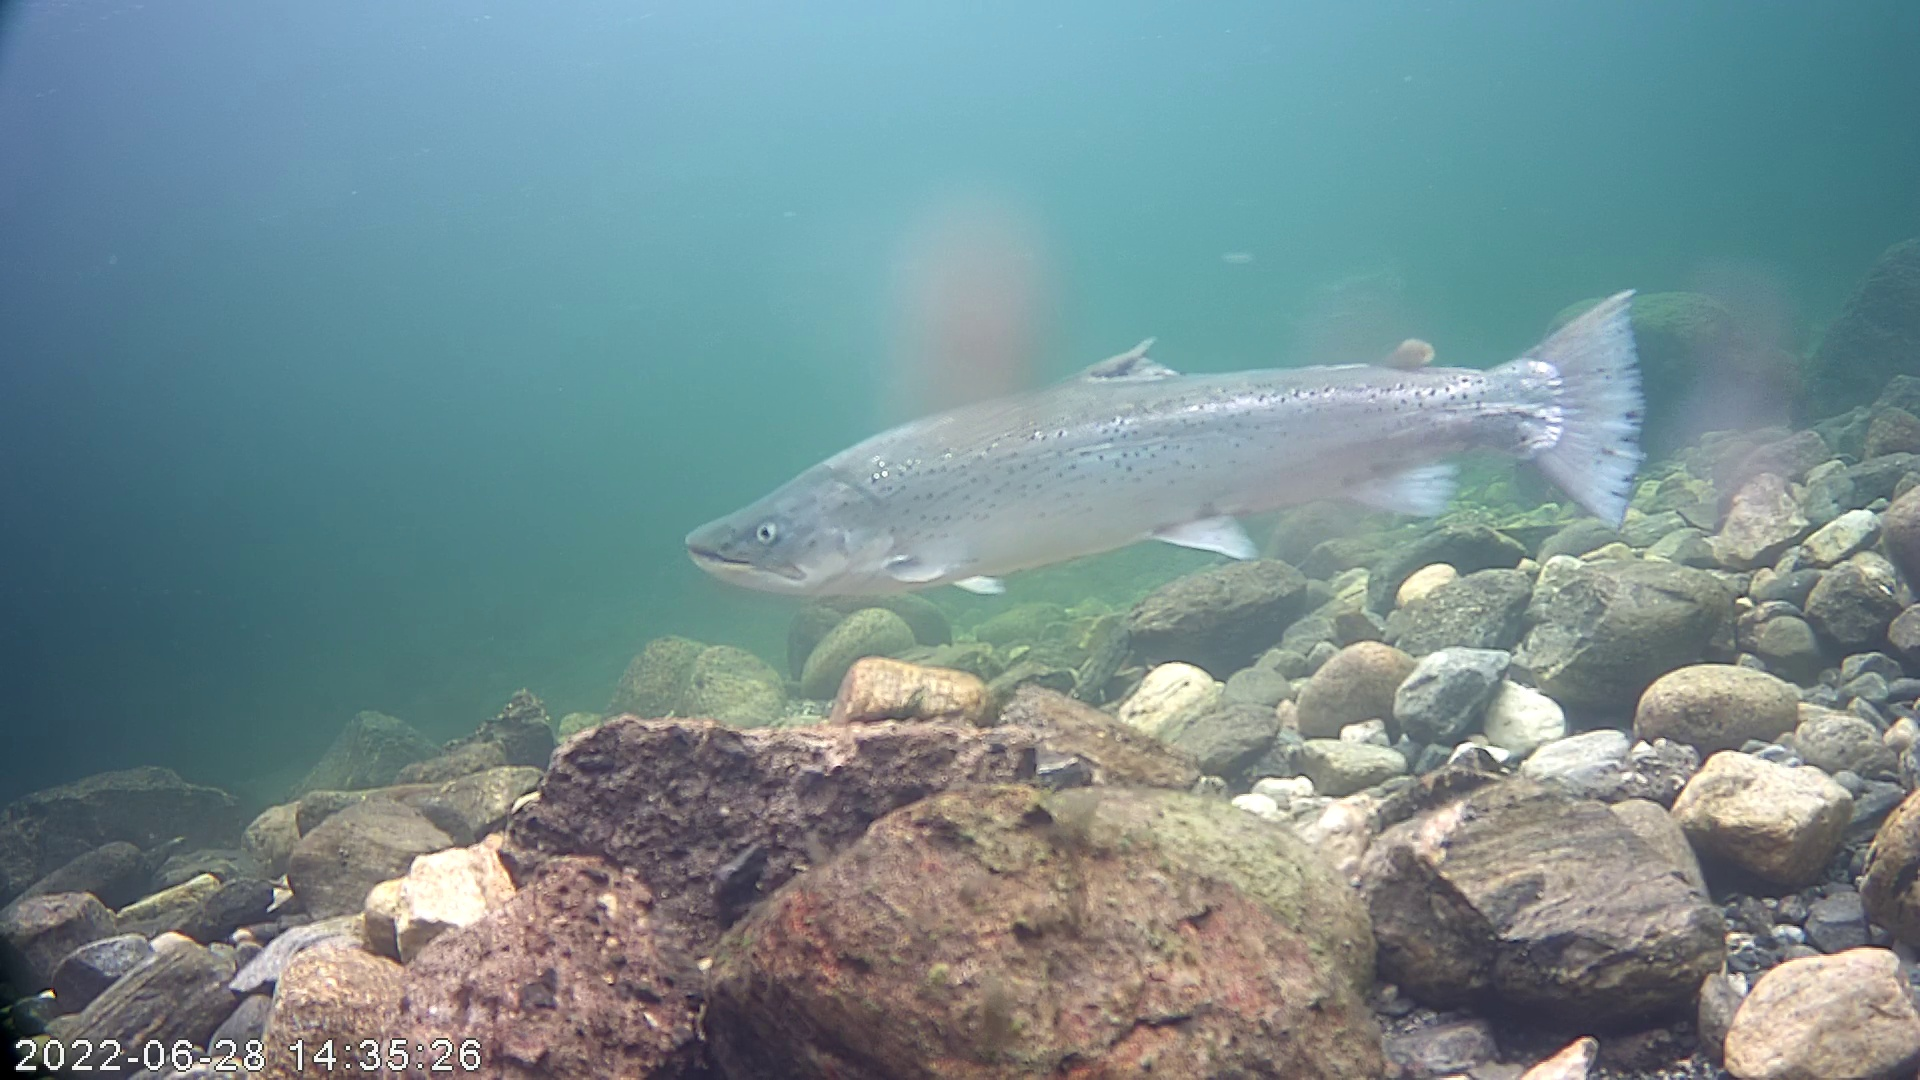salmon: (671, 216, 1684, 640)
